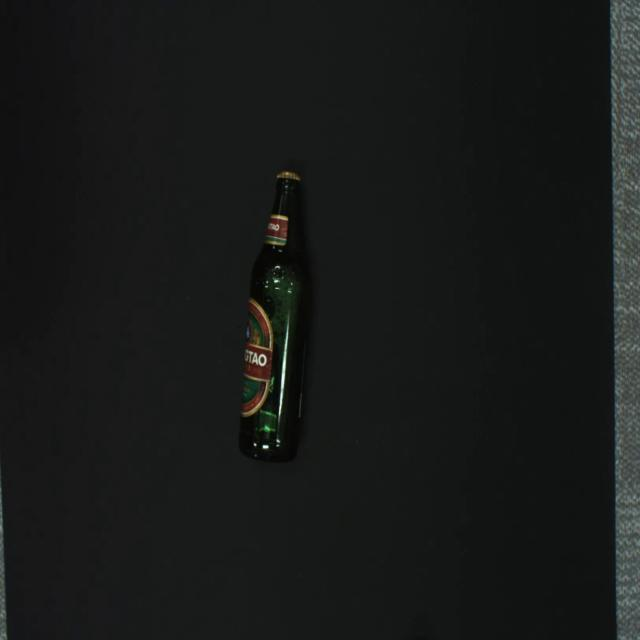beer-bottle: (238, 171, 313, 463)
